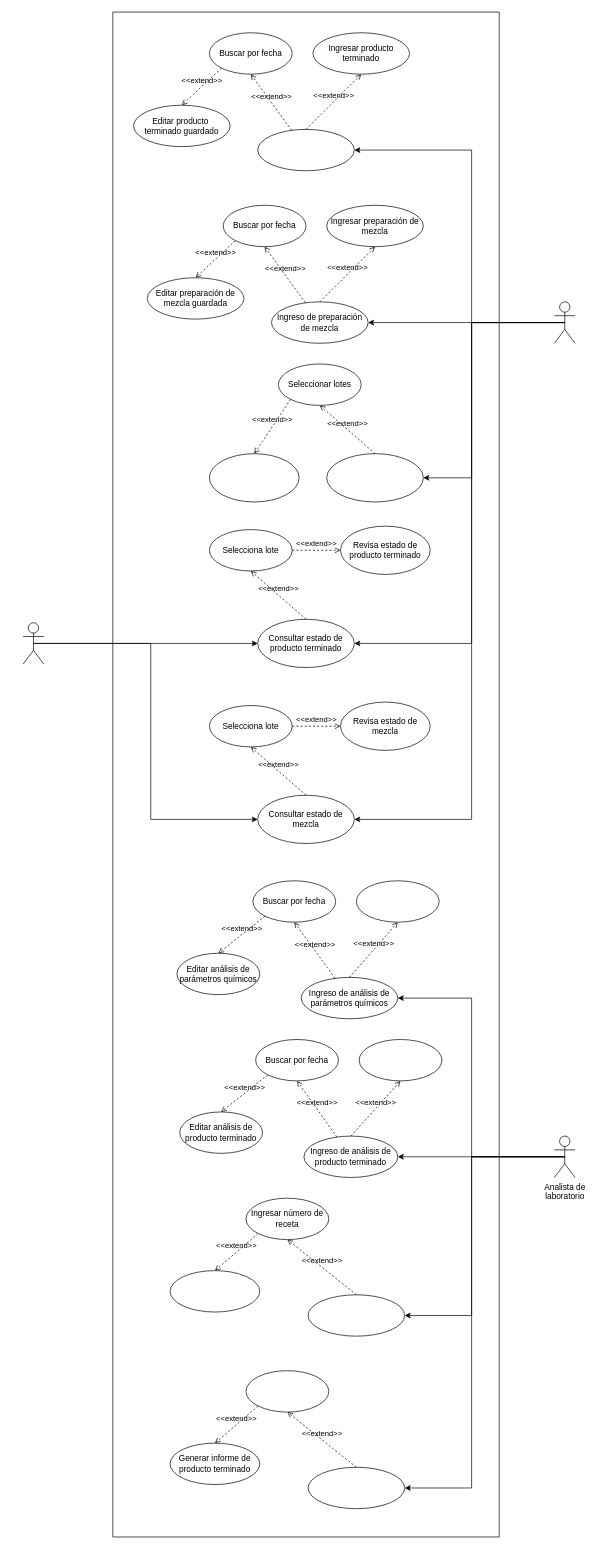
The diagram is 603 pixels wide and 1549 high, and some of its shapes have lost their labels. Here are the shapes that lost their labels. From the top down, the centre of each, then its label:
At (x=305, y=150): "Ingreso de producto terminado".
At (x=564, y=322): "Supervisor de formulación".
At (x=254, y=477): "Generar informe de entrega producto terminado".
At (x=374, y=477): "Generación informe de entrega de producto terminado".
At (x=33, y=643): "Gerente de produccion".
At (x=397, y=901): "Ingresar análisis de parámetros químicos".
At (x=400, y=1060): "Ingresar análisis de producto terminado".
At (x=214, y=1291): "Generar informe de parámetros químicos".
At (x=356, y=1315): "Generación informe de parámetros químicos".
At (x=287, y=1391): "Ingresar número de autorización".
At (x=356, y=1488): "Generación informe de producto terminado".
